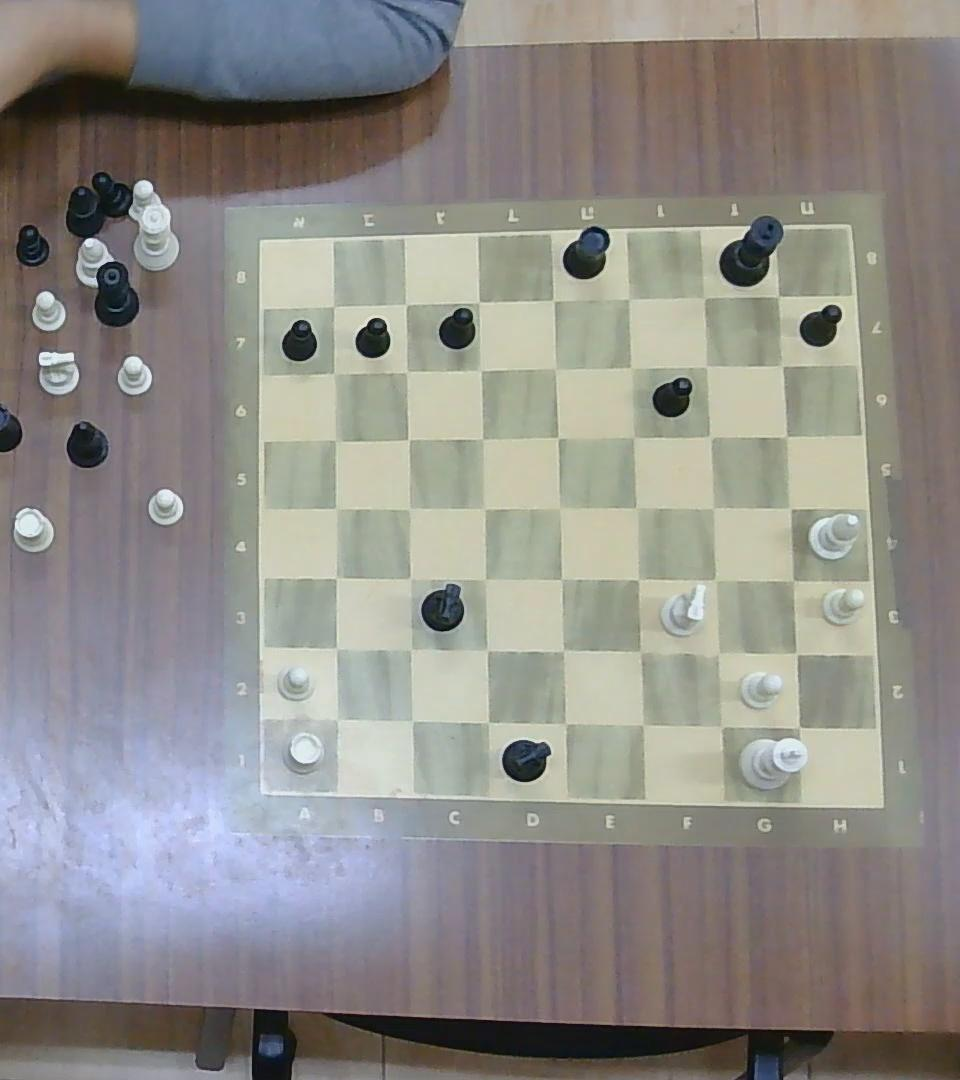xcorner: (703, 708, 737, 742), (781, 710, 815, 743), (701, 636, 734, 669), (626, 707, 658, 740), (780, 637, 812, 669), (625, 635, 656, 667), (548, 706, 579, 738), (471, 706, 502, 737), (320, 703, 351, 734), (622, 562, 652, 594), (548, 634, 578, 665), (396, 705, 427, 735), (699, 565, 730, 595), (471, 634, 501, 664), (547, 563, 576, 594), (698, 493, 728, 522), (621, 493, 651, 522), (470, 564, 500, 593), (776, 493, 806, 522), (776, 566, 807, 594), (395, 635, 424, 664), (321, 562, 350, 591), (321, 633, 350, 662), (543, 422, 572, 451), (619, 422, 648, 451), (545, 493, 573, 522), (471, 493, 499, 522), (467, 422, 495, 451), (617, 352, 645, 380), (396, 493, 423, 522), (321, 425, 350, 452), (322, 494, 350, 521), (615, 285, 643, 312), (769, 352, 797, 379), (396, 565, 423, 592), (542, 354, 569, 381), (693, 352, 720, 379), (692, 283, 719, 310), (395, 425, 421, 452), (696, 422, 723, 448), (467, 354, 493, 381), (321, 360, 349, 385), (540, 287, 566, 313), (772, 423, 800, 447), (393, 358, 419, 383), (393, 291, 419, 316), (466, 289, 491, 314), (767, 283, 791, 307), (323, 294, 345, 316)
